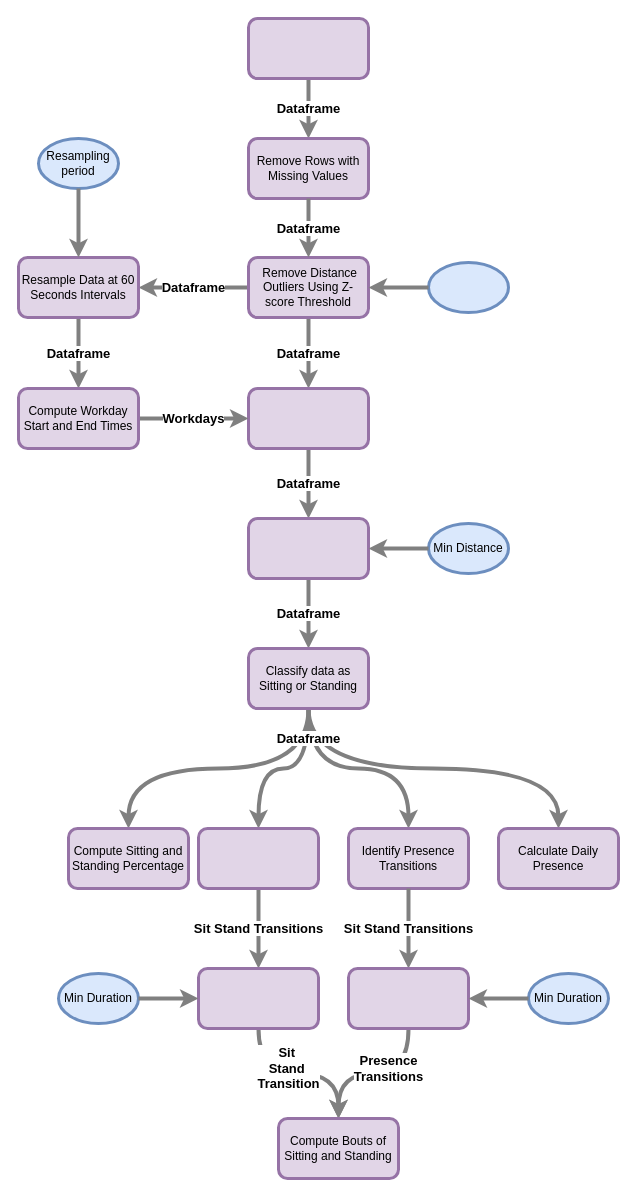
This 637x1197 diagram has some shape labels left out. Each missing label, with the centre of its shape:
Compute Daily Threshold for Standing vs Sitting: (308,548)
Filter Out Data Outside Work Hours: (308,418)
Filter Out Short Presence Transitions: (408,998)
Filter Out Short Sit-Stand Transitions: (258,998)
Identify Sit-Stand Trasitions: (258,858)
Load Data into DataFrame: (308,48)
Outlier Threshold: (468,287)
